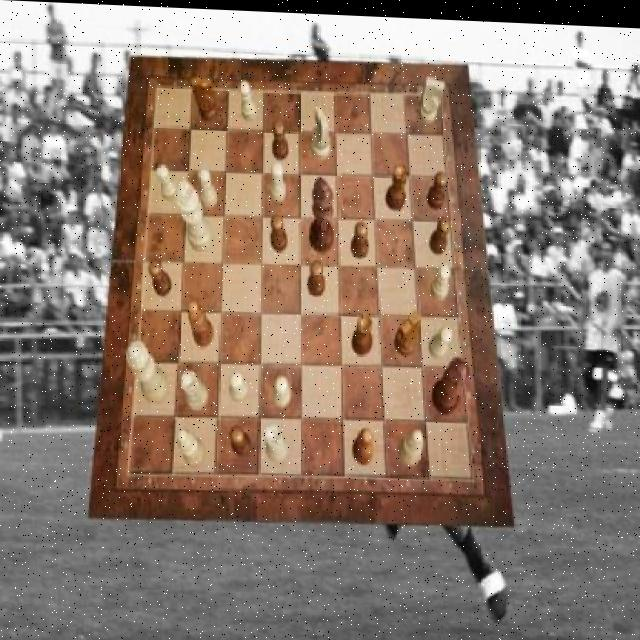bishop: (188, 299, 214, 346), (352, 425, 375, 463)
black-bishop: (309, 175, 334, 252)
black-king: (190, 74, 218, 121), (394, 306, 421, 353)
black-knight: (148, 257, 172, 296), (431, 212, 452, 251), (229, 423, 252, 457), (428, 167, 448, 206), (270, 213, 288, 251), (272, 117, 288, 159), (351, 218, 368, 255), (308, 258, 325, 294)
black-pawn: (432, 352, 470, 412)
black-queen: (386, 160, 409, 208), (352, 309, 372, 352)
black-rook: (177, 428, 206, 466), (399, 425, 423, 463)
white-bishop: (177, 178, 215, 250)
white-king: (418, 73, 446, 122), (311, 105, 331, 158)
white-knight: (198, 167, 218, 208), (157, 164, 179, 201), (430, 321, 452, 356), (431, 260, 451, 296), (239, 79, 256, 120), (270, 160, 286, 201), (229, 369, 249, 401), (274, 373, 291, 407)
white-pawn: (126, 340, 169, 403)
white-queen: (182, 369, 209, 410), (264, 421, 288, 460)
